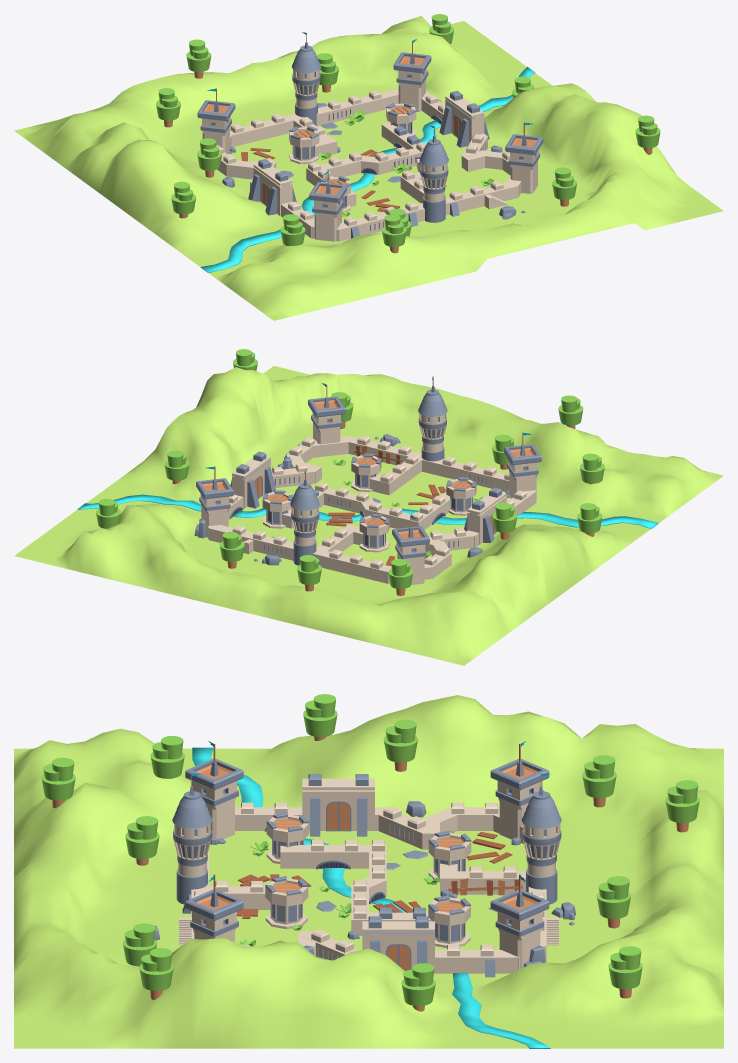
Rendered from ARENANEW2.fbx.
The picture shows the model from 3 angles, top to bottom: view 1: azimuth 30°, elevation 25°; view 2: azimuth 150°, elevation 25°; view 3: azimuth 270°, elevation 25°; orthographic projection. The views are drawn at different scales.
Parts seen in each view (by area): view 1: Plane.005, Cube.007, Cylinder.005, Sprite__3_, Plane.006, Plane.007, Cube__3_.002, Cube__4__2, Cube__4__1, Cube.010, Cube.015, Plane.016 (+12 smaller); view 2: Plane.005, Cube.007, Cylinder.005, Sprite__3_, Plane.006, Plane.007, Cube__4__1, Cube__4__2, Cube__3_.002, Cube.010, Cube.014, Cube.015 (+16 smaller); view 3: Plane.005, Cube.007, Cylinder.005, Plane.007, Sprite__3_, Plane.006, Cube.013, Cube.015, Cube.005, Cube__18__1, Cube.010, Cube.014 (+19 smaller).
Boxes of the visible parts, <box> form: Plane.005: <box>14,16,723,320</box>; Cube.007: <box>197,39,543,241</box>; Cylinder.005: <box>292,32,448,222</box>; Sprite__3_: <box>200,67,535,272</box>; Plane.006: <box>439,90,489,147</box>; Plane.007: <box>248,159,296,215</box>; Cube__3_.002: <box>316,88,398,126</box>; Cube__4__2: <box>401,181,518,222</box>; Cube__4__1: <box>230,114,304,146</box>; Cube.010: <box>289,125,319,163</box>; Cube.015: <box>386,102,416,135</box>; Plane.016: <box>186,39,211,78</box>; Plane.005: <box>14,366,723,665</box>; Cube.007: <box>196,383,541,584</box>; Cylinder.005: <box>290,376,447,565</box>; Sprite__3_: <box>77,494,658,528</box>; Plane.006: <box>230,451,275,508</box>; Plane.007: <box>464,487,506,544</box>; Cube__4__1: <box>312,548,388,583</box>; Cube__4__2: <box>347,436,460,479</box>; Cube__3_.002: <box>209,525,293,560</box>; Cube.010: <box>359,514,389,552</box>; Cube.014: <box>446,477,476,515</box>; Cube.015: <box>262,490,292,528</box>; Plane.005: <box>14,695,723,1048</box>; Cube.007: <box>185,741,549,968</box>; Cylinder.005: <box>172,773,561,904</box>; Plane.007: <box>302,774,374,836</box>; Sprite__3_: <box>192,747,550,1048</box>; Plane.006: <box>362,916,434,973</box>; Cube.013: <box>265,876,308,929</box>; Cube.015: <box>428,895,470,947</box>; Cube.005: <box>280,845,368,868</box>; Cube__18__1: <box>435,950,518,973</box>; Cube.010: <box>428,830,471,882</box>; Cube.014: <box>266,812,309,863</box>.
Bounding box in the file's own units: 40024 × 11929 × 40000.
